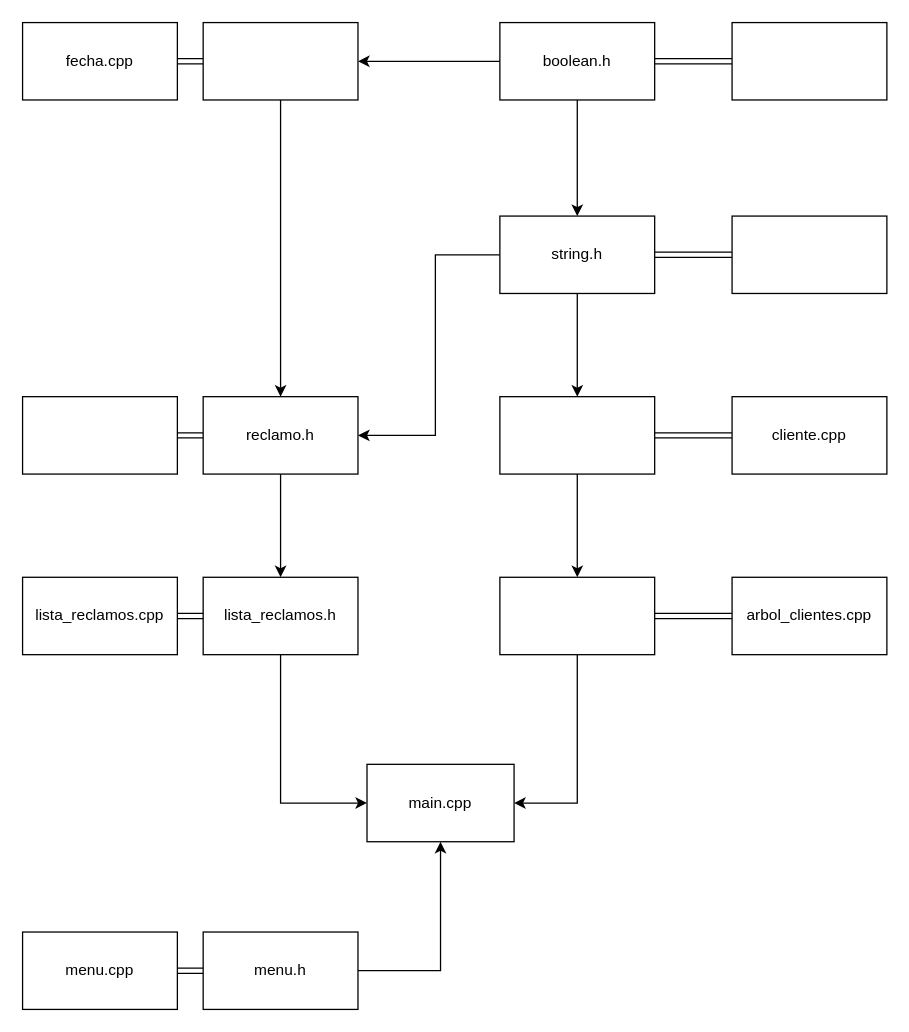
Image size: 909x1032. Some labels were removed from this diagram. Here are the shapes that lost their labels. From the top down, the box of each, then its label:
(202, 21, 358, 100): fecha.h
(731, 21, 887, 100): boolean.cpp
(731, 215, 887, 293): string.cpp
(21, 395, 177, 474): reclamo.cpp
(499, 395, 655, 474): cliente.h
(499, 576, 655, 655): arbol_clientes.h
